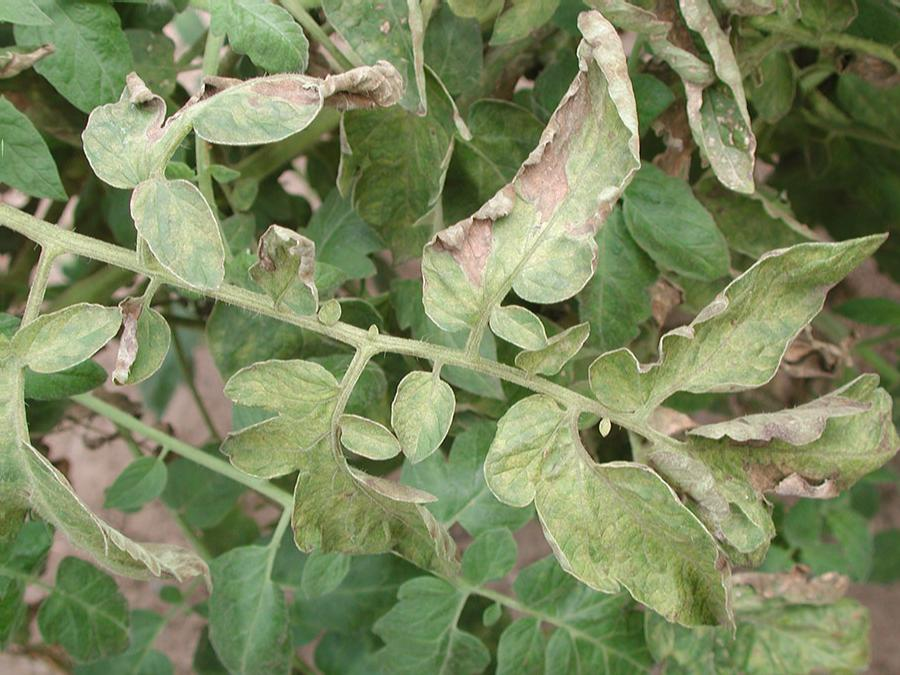Tomato mold leaf: (414, 5, 644, 334), (479, 386, 737, 634), (582, 226, 889, 415), (69, 47, 398, 179), (119, 175, 235, 299), (0, 303, 124, 382), (375, 365, 457, 465), (246, 221, 324, 321), (318, 410, 404, 464)
